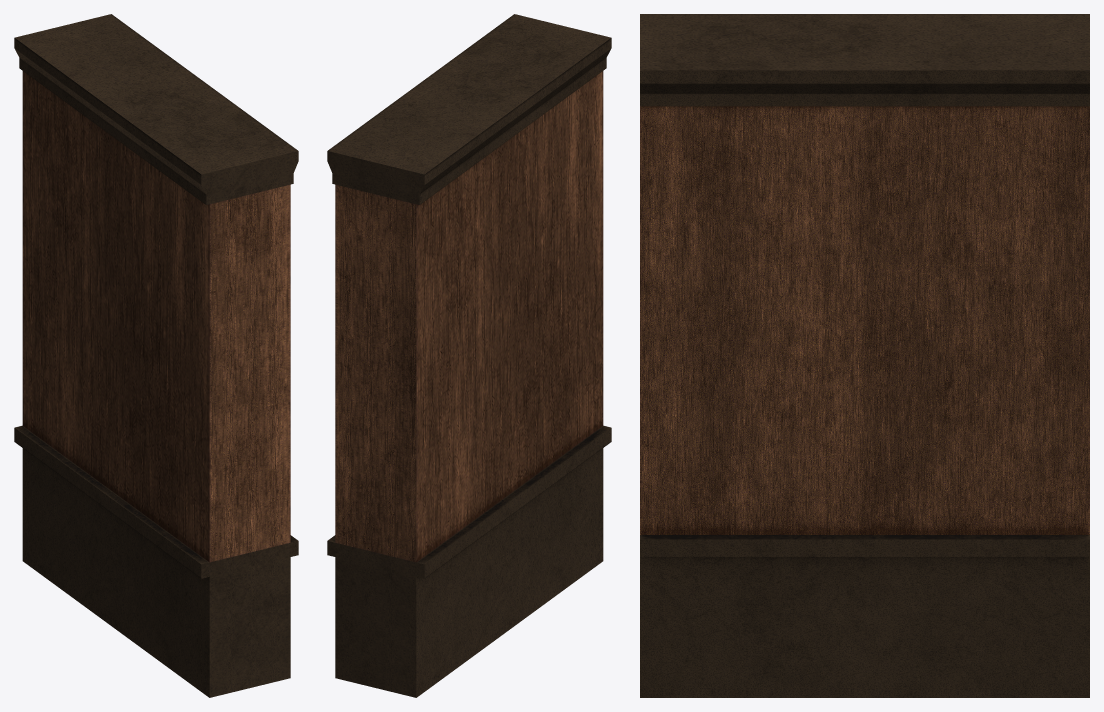
File: wall.fbx
The picture shows the model from 3 angles, left to right: view 1: azimuth 30°, elevation 25°; view 2: azimuth 150°, elevation 25°; view 3: azimuth 270°, elevation 25°; orthographic projection. The views are drawn at different scales.
Visible parts, largest first — view 1: wall; view 2: wall; view 3: wall.
Part boxes in pixels (box(x1,y1,x2,y2)): wall: box(14, 14, 298, 697); wall: box(327, 14, 611, 697); wall: box(640, 14, 1089, 697).
Bounding box in the file's own units: 59.94 × 310 × 200.
